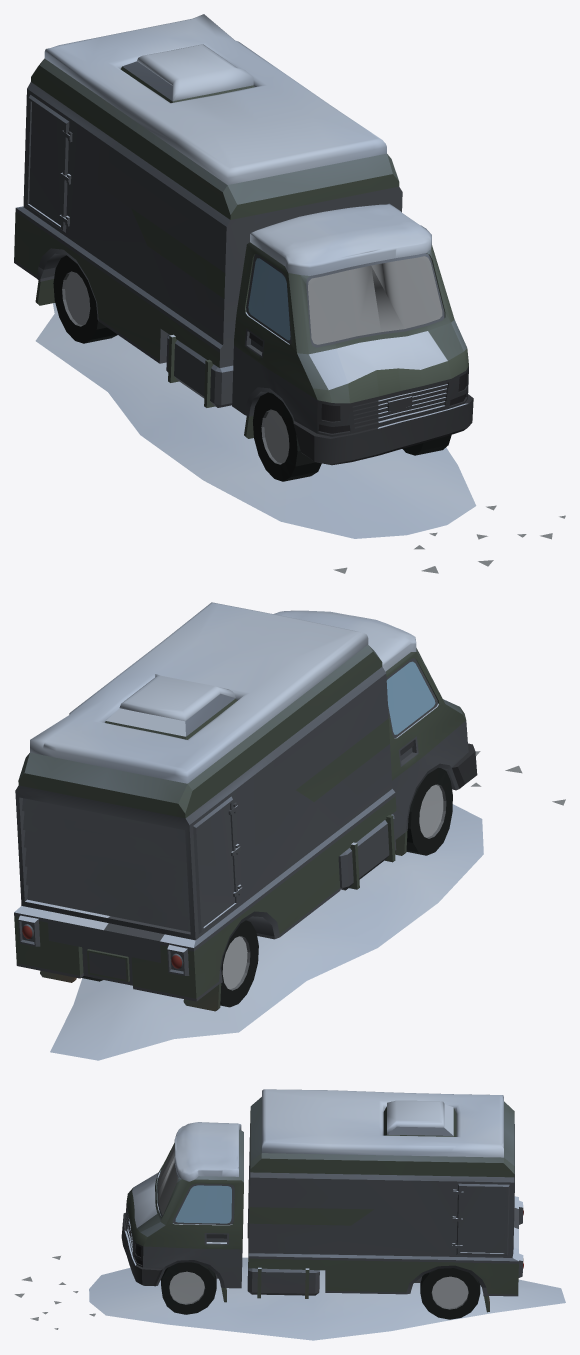
File: military_truck_crashed.glb
3 views of the same model, one above another, from view 1: azimuth 30°, elevation 25°; view 2: azimuth 150°, elevation 25°; view 3: azimuth 270°, elevation 25° (orthographic). The views are drawn at different scales.
Visible parts, largest first — view 1: Body, Glass; view 2: Body, Glass; view 3: Body, Glass.
Part boxes in pixels (left/top/right/bottom): Body: left=14, top=14, right=565, bottom=573; Glass: left=248, top=258, right=290, bottom=340; Body: left=14, top=602, right=565, bottom=1060; Glass: left=386, top=661, right=435, bottom=734; Body: left=14, top=1089, right=565, bottom=1340; Glass: left=175, top=1185, right=231, bottom=1223.
Size of the model in its own units: 3.38 by 3.59 by 9.49.
